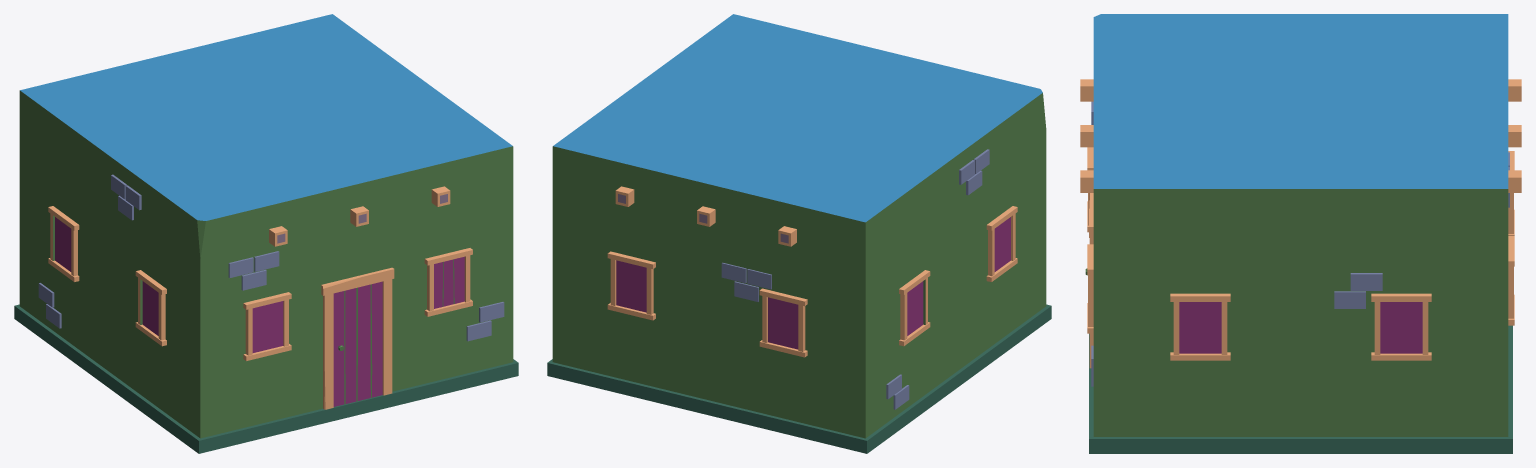
Rendered from Building_new_1.fbx.
3 renders of one model, left to right at view 1: azimuth 30°, elevation 25°; view 2: azimuth 150°, elevation 25°; view 3: azimuth 270°, elevation 25°, orthographic. The views are drawn at different scales.
Visible parts, largest first — view 1: Building_01; view 2: Building_01; view 3: Building_01.
Boxes of the visible parts, x1,y1,x2,y2 form: Building_01: (14, 14, 518, 453); Building_01: (547, 14, 1051, 453); Building_01: (1080, 14, 1521, 453).
Size of the model in its own units: 516 by 350 by 533.
